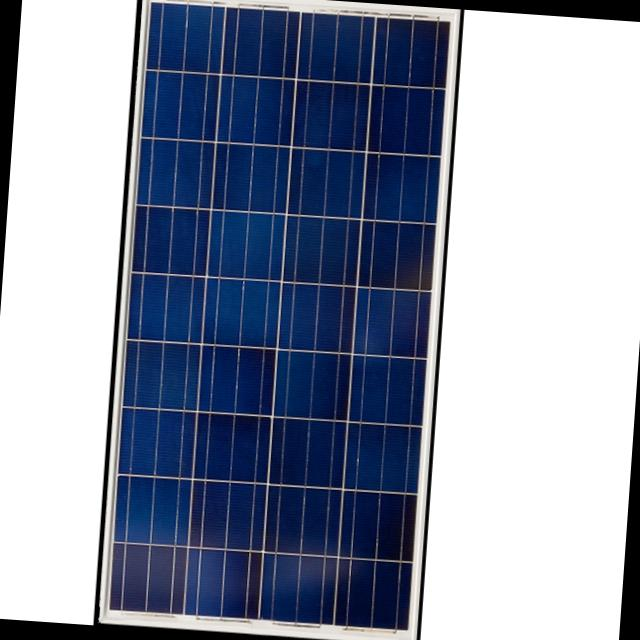no faulty: (116, 11, 438, 624)
